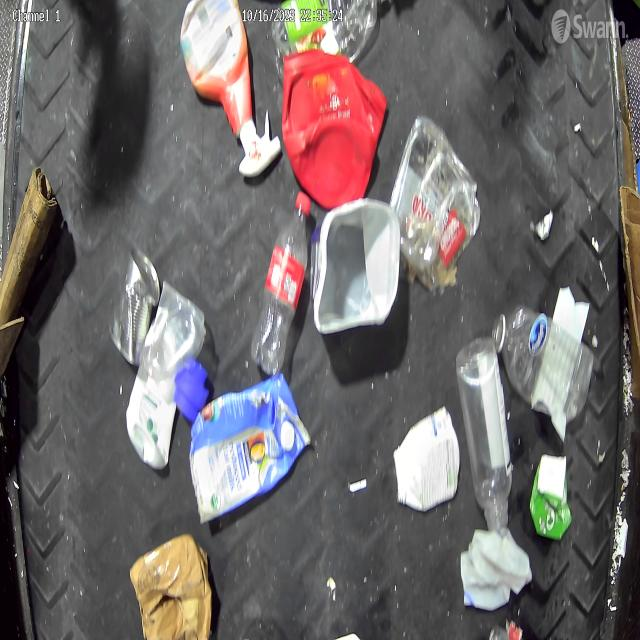can: (112, 254, 162, 369)
milk_jug: (462, 526, 535, 608)
non_white_jug: (190, 372, 309, 526), (180, 1, 281, 178), (279, 51, 386, 206)
plastic_bottle: (492, 305, 593, 420), (251, 191, 311, 375), (458, 340, 514, 536)
